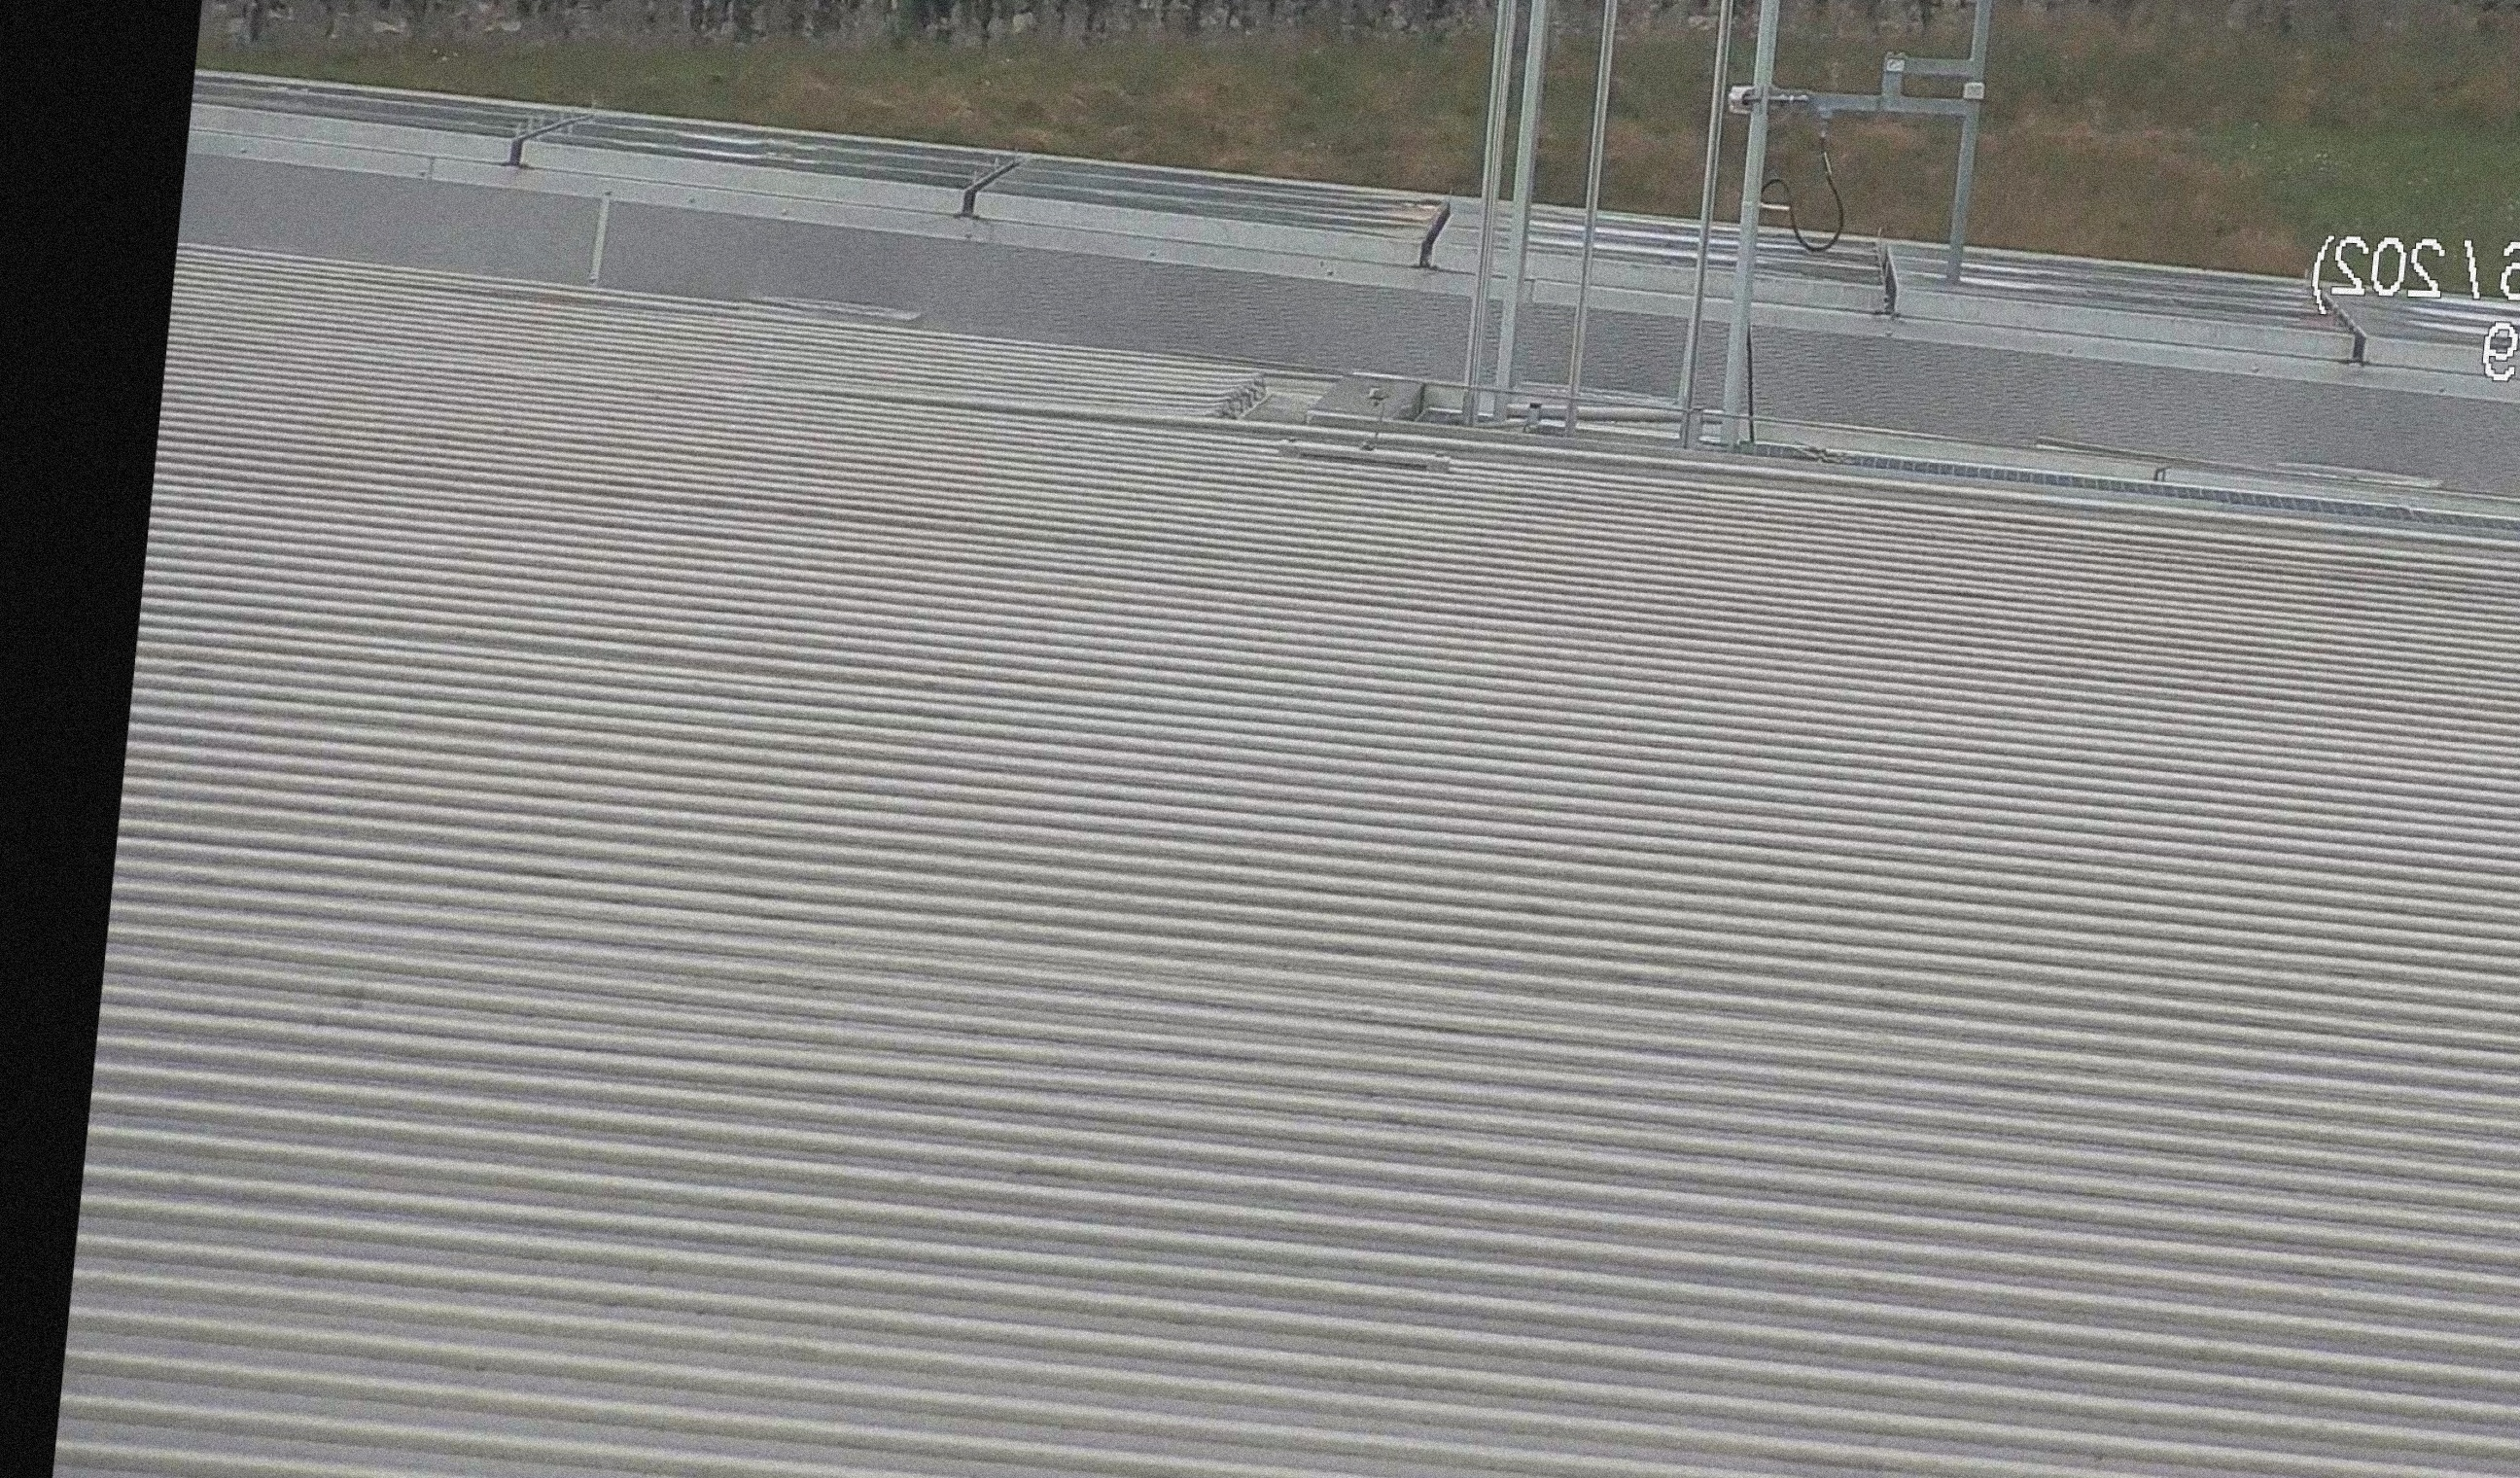Other: (1734, 60, 1878, 260)
